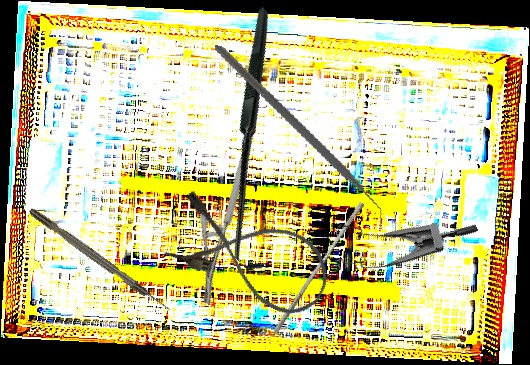Cannula: (159, 184, 342, 326)
Chopper: (183, 44, 414, 230)
Hook Surgical: (123, 6, 393, 277), (27, 206, 174, 315)
Needle Holder: (152, 119, 310, 306)
Pusher: (272, 199, 365, 338)
Speculum: (321, 169, 480, 297)
